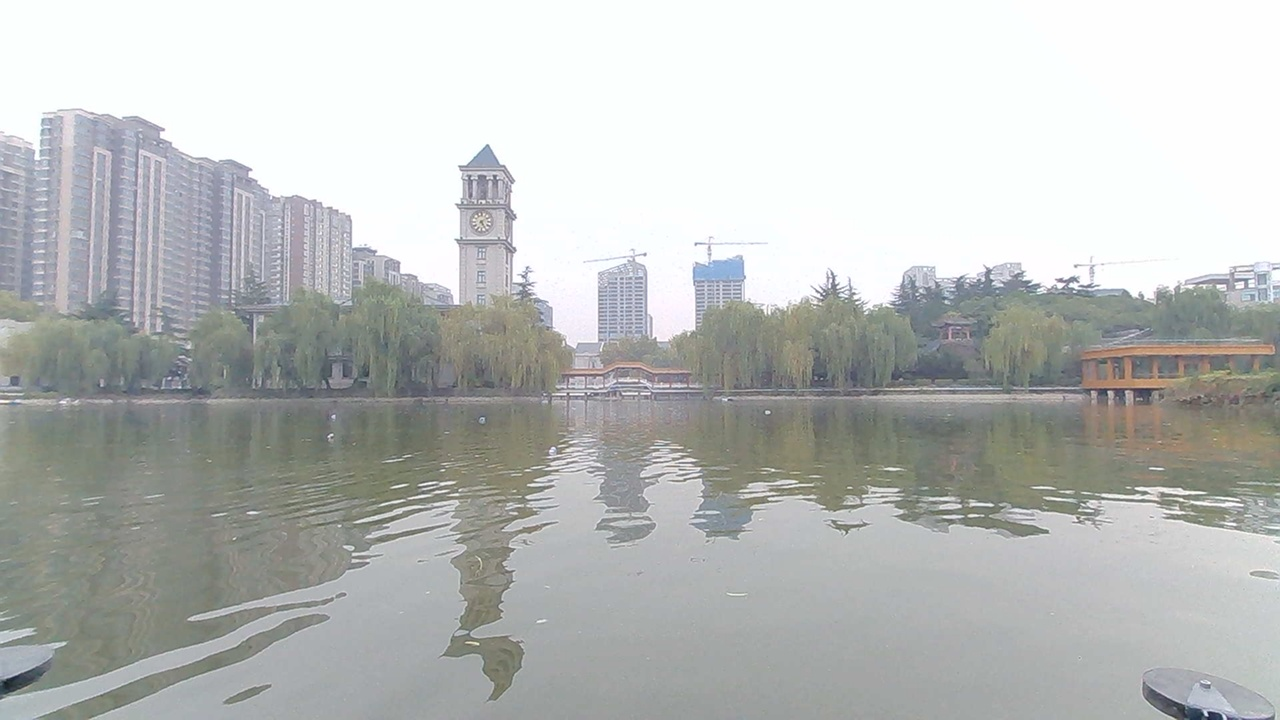bottle: (526, 435, 586, 468), (461, 404, 512, 437), (309, 424, 350, 447), (748, 401, 787, 424), (316, 399, 352, 423)
